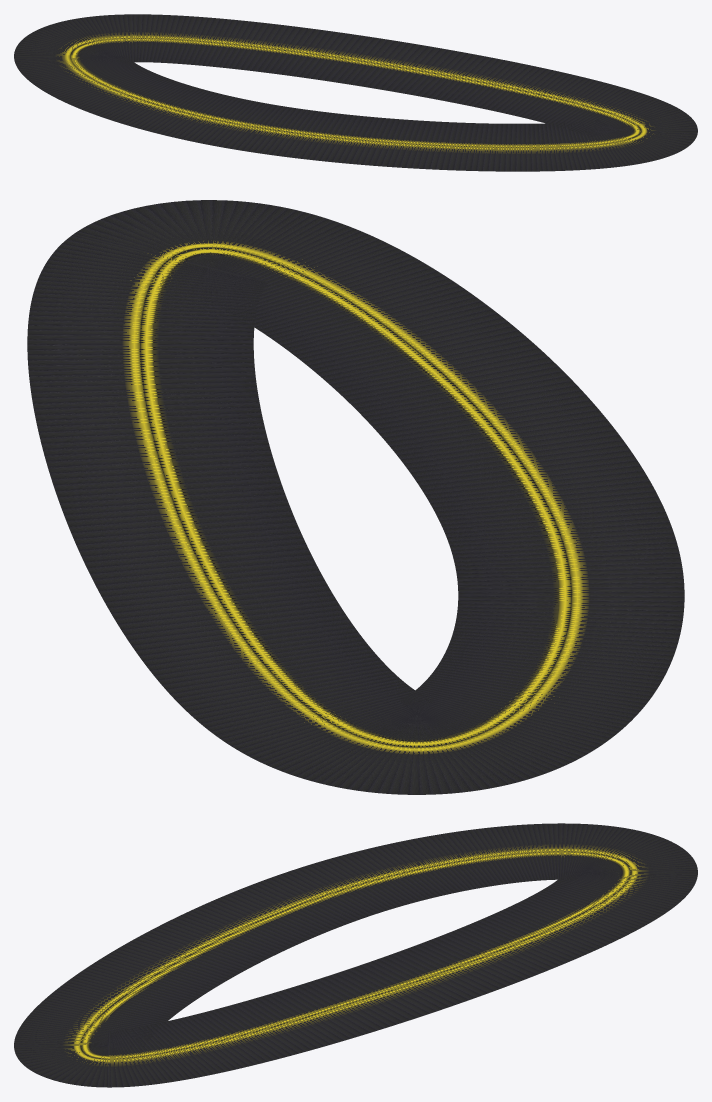
The picture shows the model from 3 angles, top to bottom: view 1: azimuth 30°, elevation 25°; view 2: azimuth 150°, elevation 25°; view 3: azimuth 270°, elevation 25°; orthographic projection. The views are drawn at different scales.
Visible parts, largest first — view 1: road; view 2: road; view 3: road.
Part boxes in pixels (left/top/right/bottom): road: left=14, top=14, right=697, bottom=171; road: left=27, top=200, right=684, bottom=794; road: left=14, top=823, right=697, bottom=1087.
Size of the model in its own units: 0.8447 by 0 by 0.9248.
